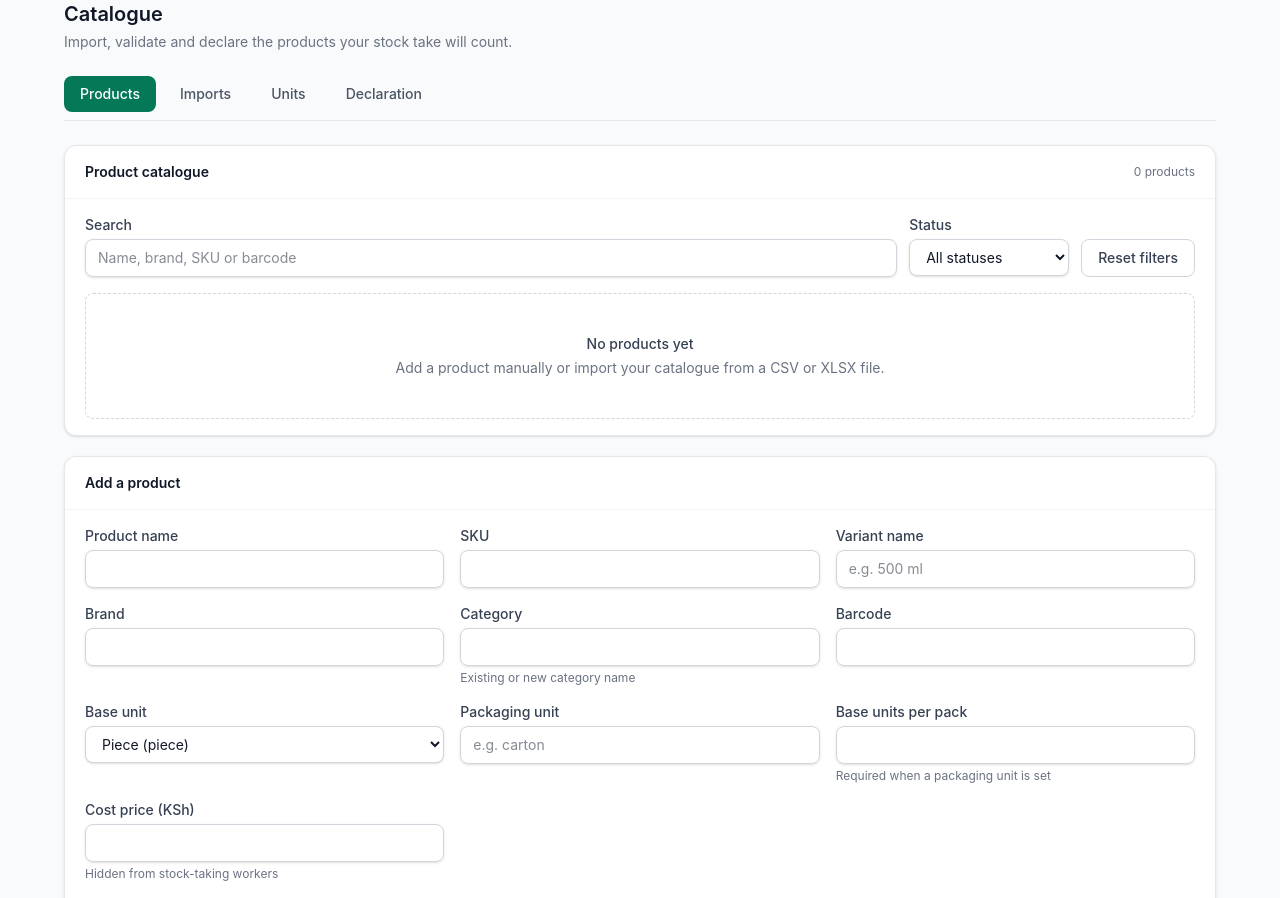
Test: Catalogue product creation › preserves entered values and shows field errors when creation fails
The image size is (1280, 898).
In the field labelled "Product name": point(265, 569) [85,550,444,588], type "Green Tea"
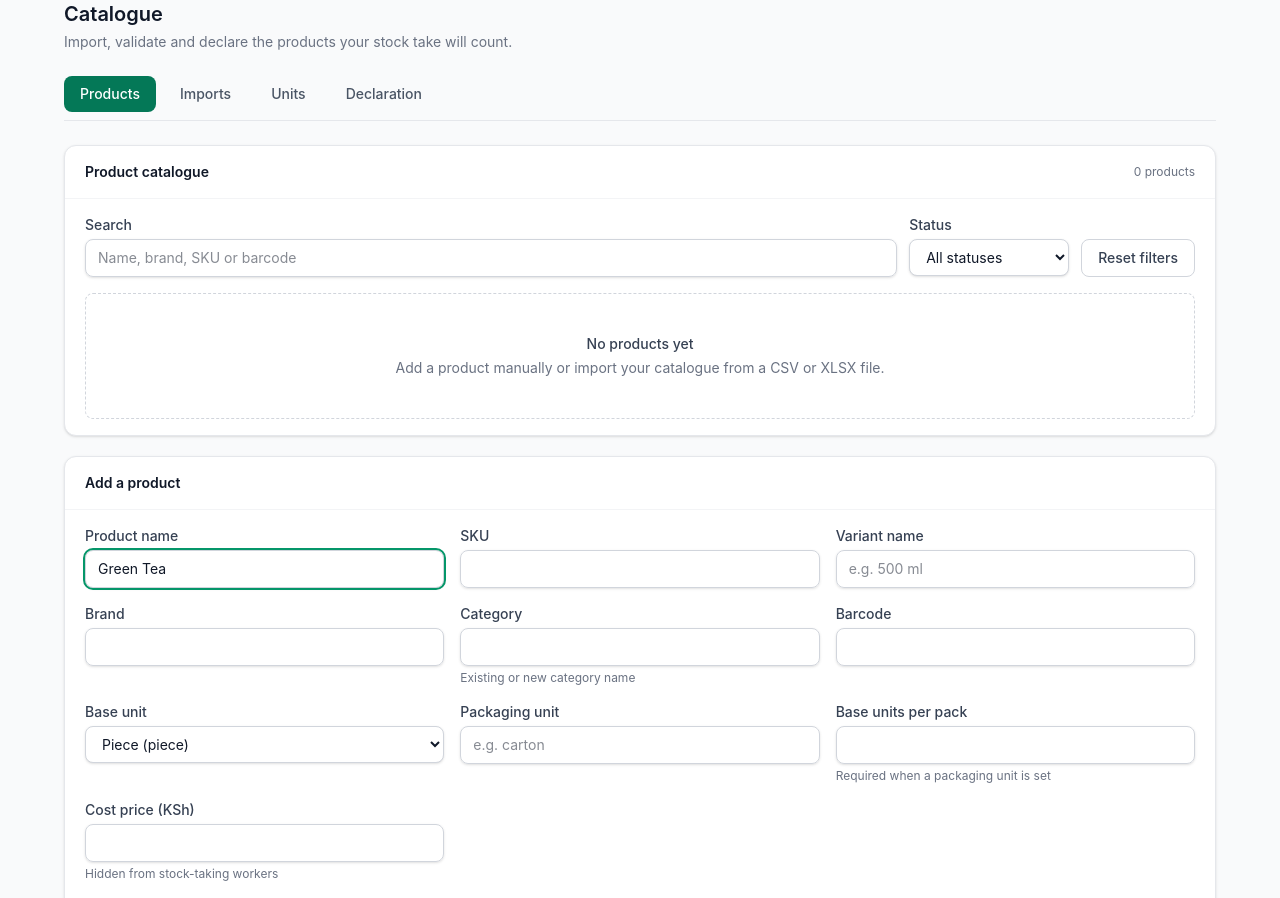
In the field labelled "SKU": point(640, 569) [460,550,820,588], type "TEA-001"
(page scrolled)
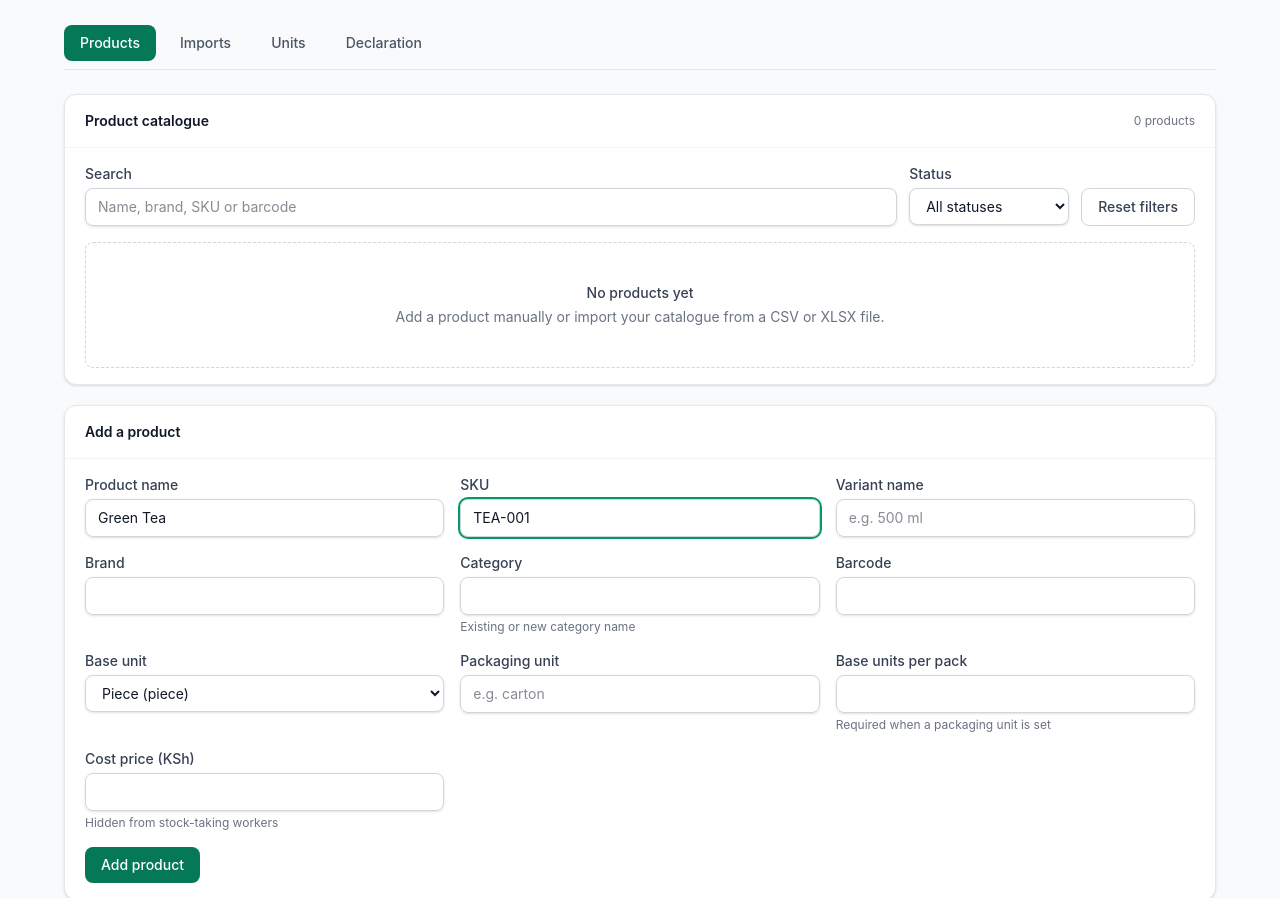
Click the button "Add product": point(142, 865) [85,847,200,883]
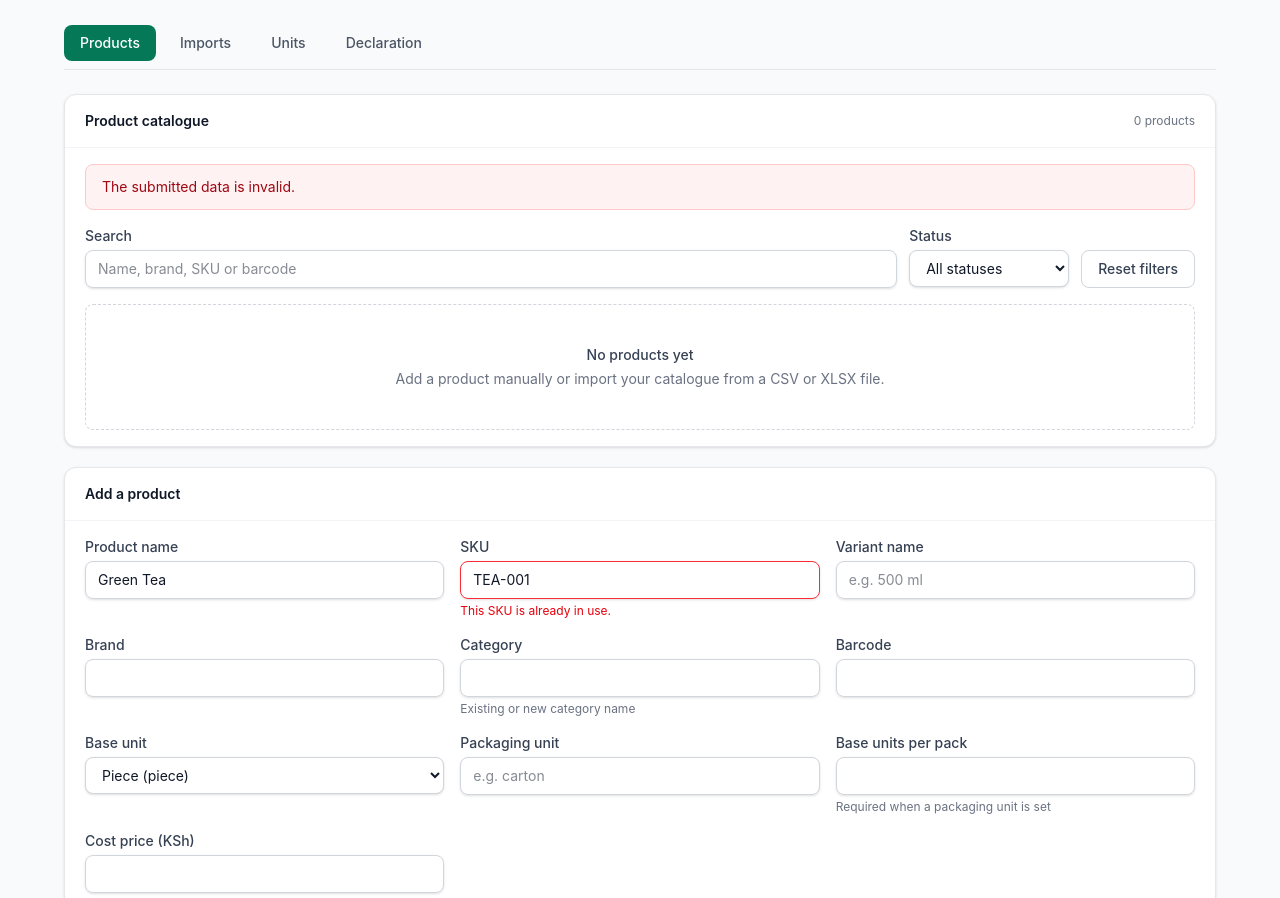
Check: the text "This SKU is already in use." is shown, box [460,603,611,618]
Check: the text "The submitted data is invalid." is shown, box [85,164,1195,210]
